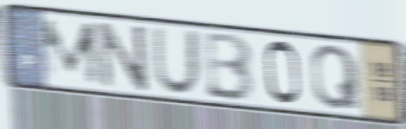0: (263, 38, 302, 107)
B: (204, 30, 257, 104)
M: (38, 18, 104, 87)
N: (96, 20, 152, 93)
Q: (308, 42, 363, 112)
U: (151, 25, 201, 97)
